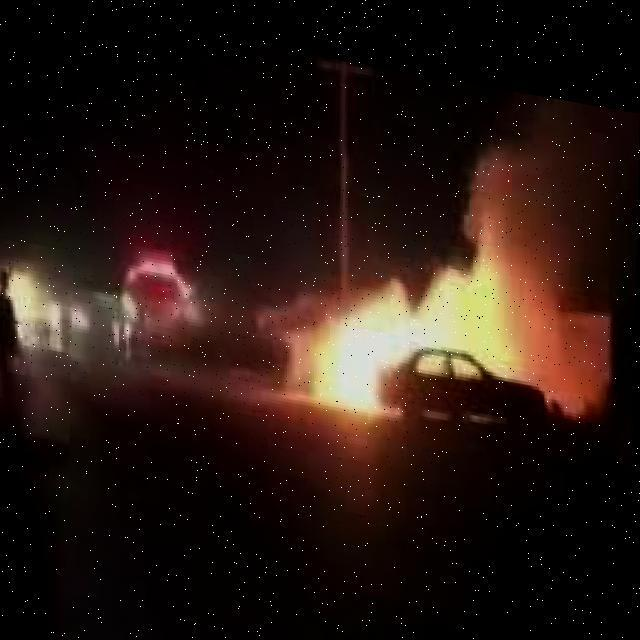Fire: (312, 232, 540, 432)
